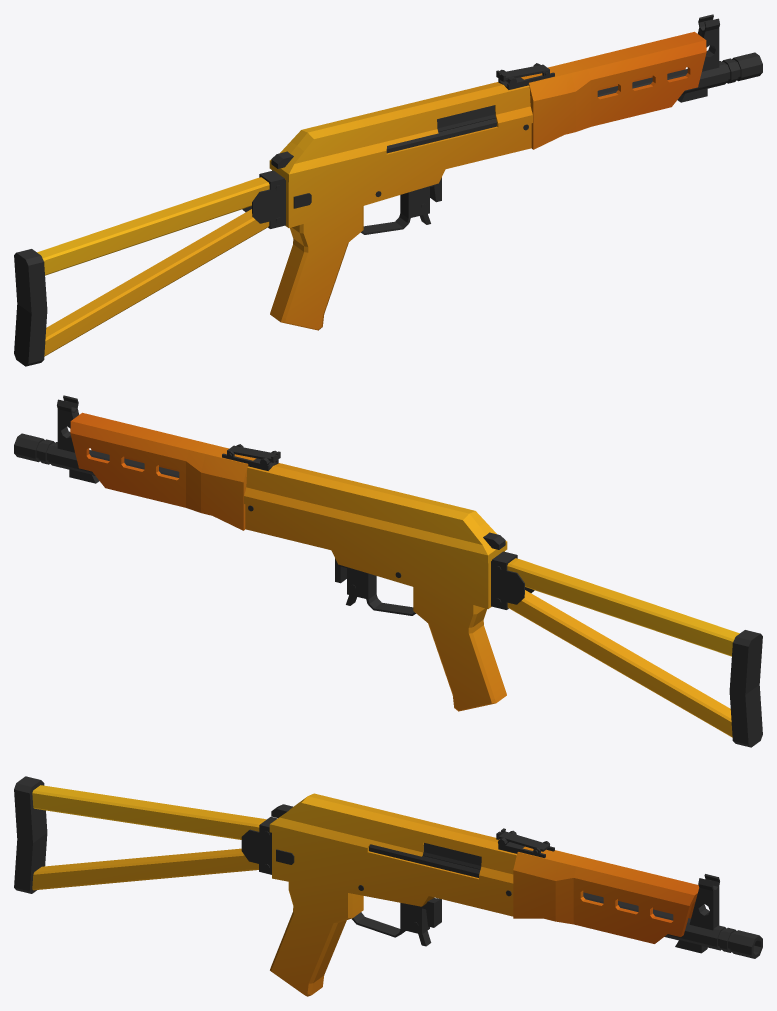
Rendered from SMG5_04.fbx.
The picture shows the model from 3 angles, top to bottom: view 1: azimuth 30°, elevation 25°; view 2: azimuth 150°, elevation 25°; view 3: azimuth 330°, elevation 25°; orthographic projection.
Parts seen in each view (by area): view 1: SMG5_04; view 2: SMG5_04; view 3: SMG5_04.
Part boxes in pixels (x1=…): SMG5_04: x1=14, y1=14, x2=762, y2=366; SMG5_04: x1=14, y1=395, x2=762, y2=747; SMG5_04: x1=14, y1=776, x2=762, y2=996.
Size of the model in its own units: 0.8851 by 0.2432 by 0.0422.
